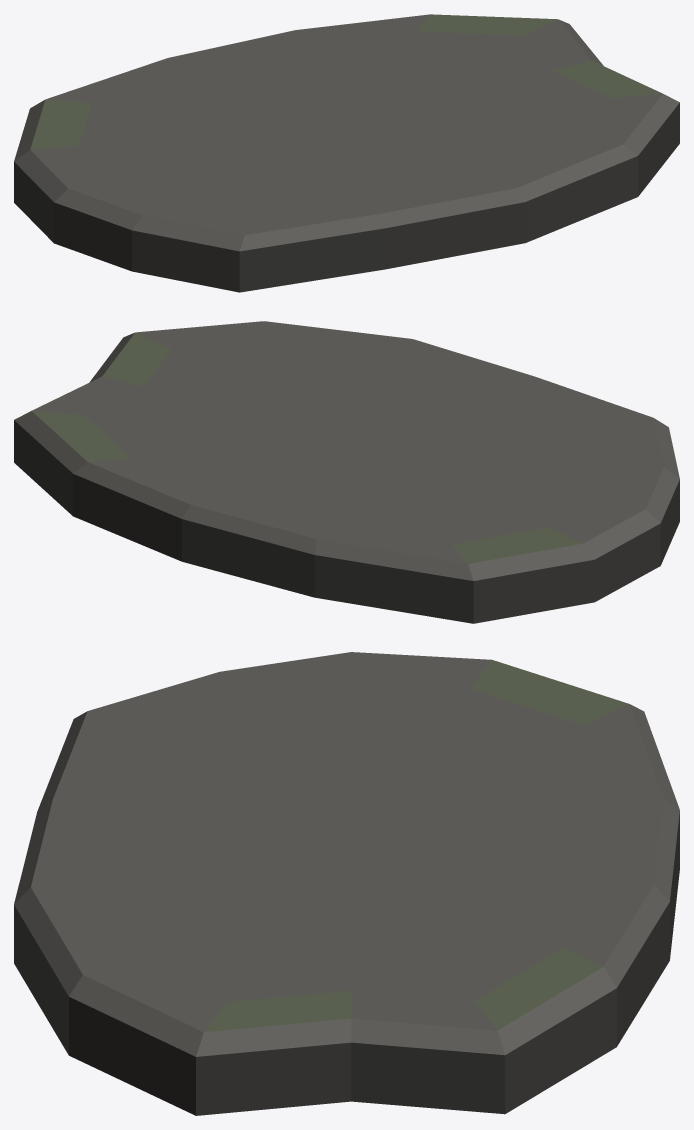
The model's file is stepping_stone_c.fbx.
The picture shows the model from 3 angles, top to bottom: view 1: azimuth 30°, elevation 25°; view 2: azimuth 150°, elevation 25°; view 3: azimuth 270°, elevation 25°; orthographic projection. The views are drawn at different scales.
Visible parts, largest first — view 1: stepping_stone_c; view 2: stepping_stone_c; view 3: stepping_stone_c.
Boxes of the visible parts, <box> form: stepping_stone_c: <box>14,14,679,292</box>; stepping_stone_c: <box>14,321,679,623</box>; stepping_stone_c: <box>14,652,679,1115</box>.
Bounding box in the file's own units: 0.4655 × 0.3274 × 0.04.
